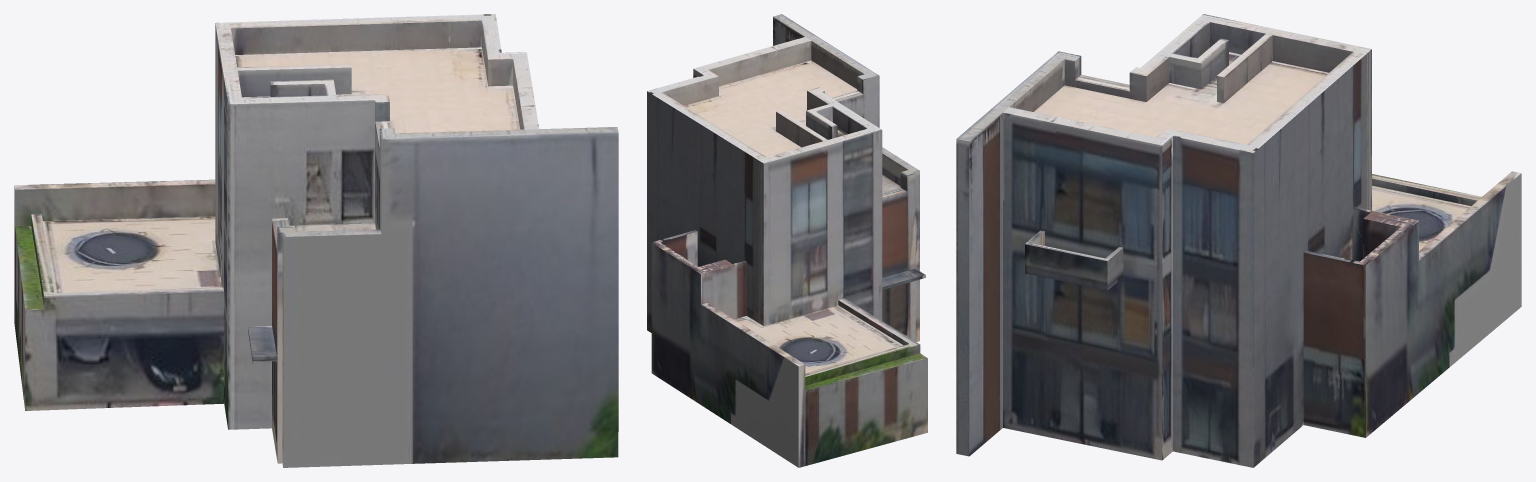
3 views of the same model, side by side, from view 1: azimuth 30°, elevation 25°; view 2: azimuth 150°, elevation 25°; view 3: azimuth 270°, elevation 25° (orthographic). The views are drawn at different scales.
Parts seen in each view (by area): view 1: B288204035401063A0; view 2: B288204035401063A0; view 3: B288204035401063A0.
Boxes of the visible parts, x1=… form: B288204035401063A0: x1=14, y1=14, x2=618, y2=467; B288204035401063A0: x1=647, y1=14, x2=927, y2=467; B288204035401063A0: x1=956, y1=14, x2=1521, y2=467.
Size of the model in its own units: 16.68 by 12.21 by 19.73.
1 material, 1 textured.
